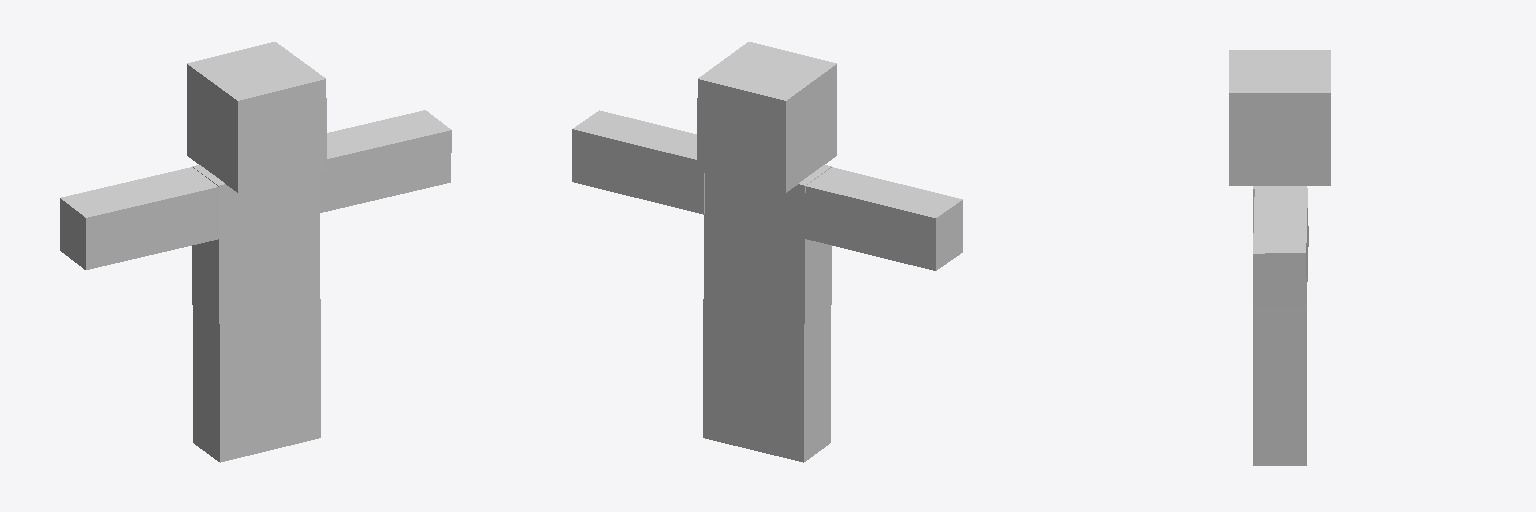
Rendered from skin_sep.obj.
3 renders of one model, left to right at view 1: azimuth 30°, elevation 25°; view 2: azimuth 150°, elevation 25°; view 3: azimuth 270°, elevation 25°, orthographic.
Parts seen in each view (by area): view 1: skin, skin.001, skin.003, skin.002, skin.005, skin.004; view 2: skin, skin.001, skin.003, skin.002, skin.005, skin.004; view 3: skin, skin.004, skin.005, skin.001.
Part boxes in pixels (x1,y1,x2,y2): skin: (187,42,326,193); skin.001: (192,165,319,323); skin.003: (60,167,219,269); skin.002: (193,306,269,462); skin.005: (320,110,451,212); skin.004: (270,299,320,449); skin: (697,42,836,193); skin.001: (704,165,831,323); skin.003: (804,167,962,270); skin.002: (754,306,830,462); skin.005: (572,110,704,214); skin.004: (703,299,753,449); skin: (1229,50,1330,185); skin.004: (1253,327,1306,465); skin.005: (1253,188,1308,305); skin.001: (1253,186,1306,326).
Size of the model in its own units: 4.13 by 3.99 by 1.